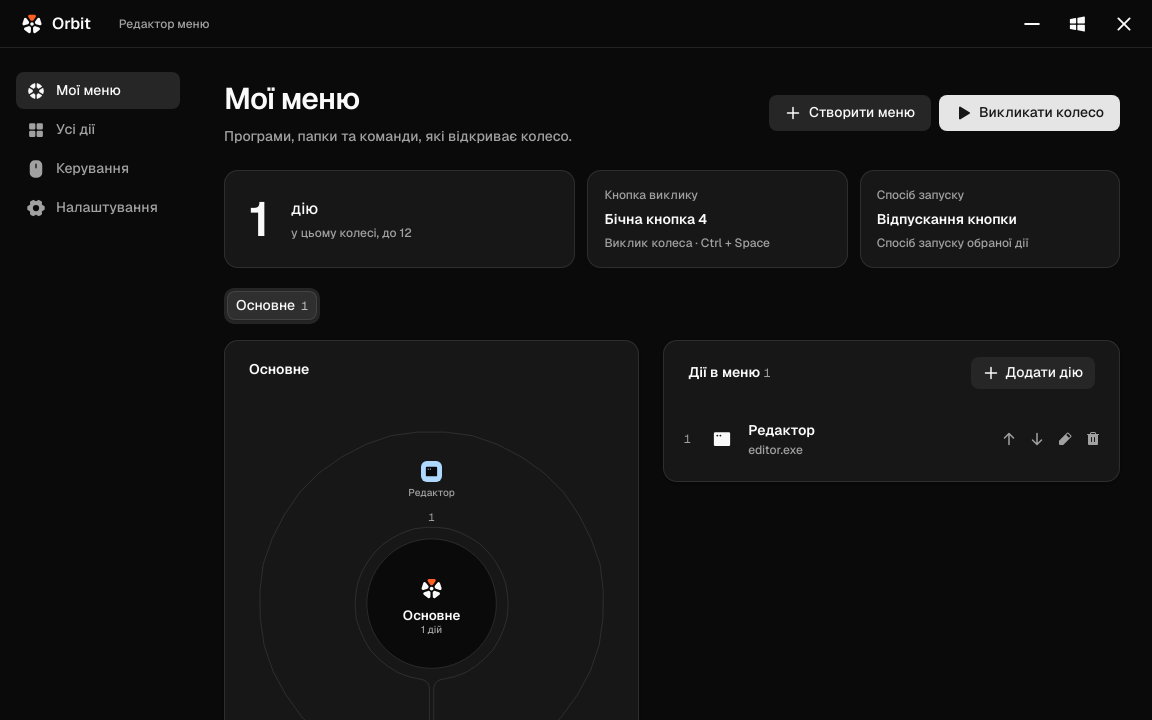
Test: React editor shell and native events › names dialogs and points tabs only at panels that exist
Expected: the number of tabs is 1, x1=227 y1=291 x2=317 y2=320
Click the button "Додати дію" at point(1033, 372), box x1=971 y1=356 x2=1095 y2=388
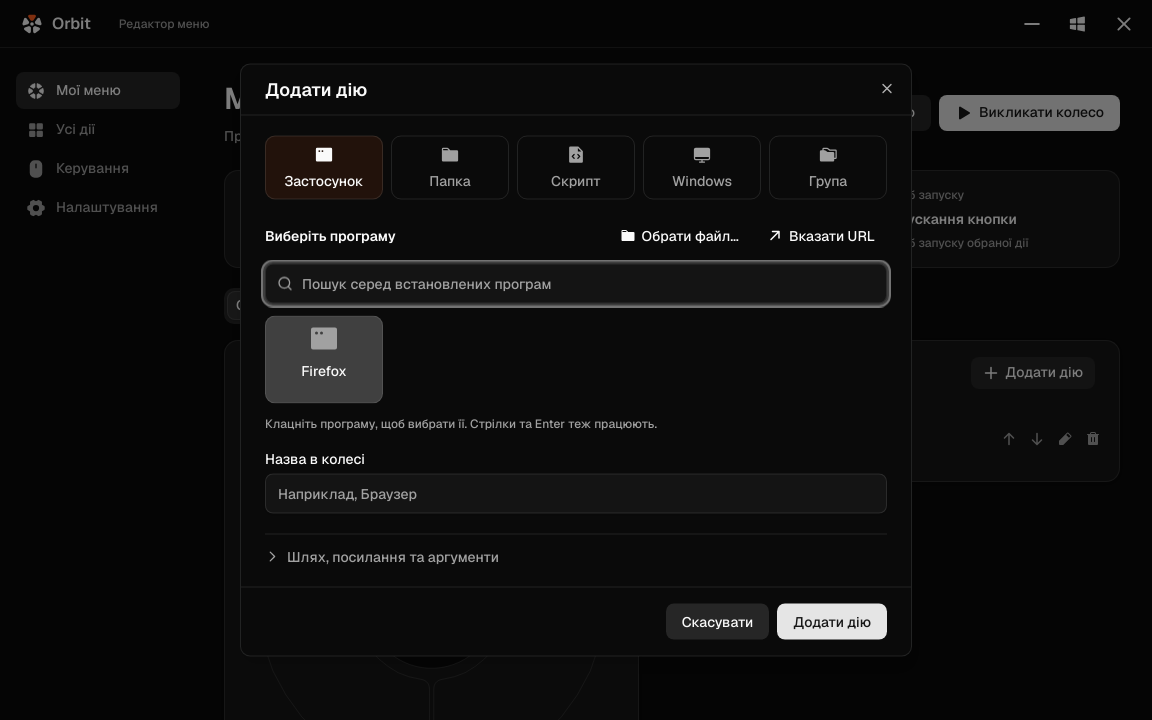
Result: the dialog is shown at x1=240 y1=64 x2=912 y2=656
Result: the heading "Додати дію" is shown at x1=265 y1=78 x2=367 y2=100
